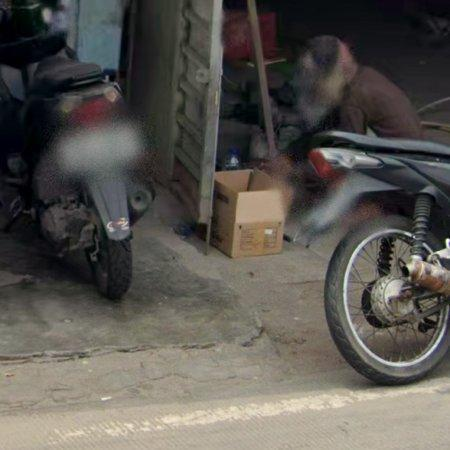motorcycles: (309, 131, 450, 386)
